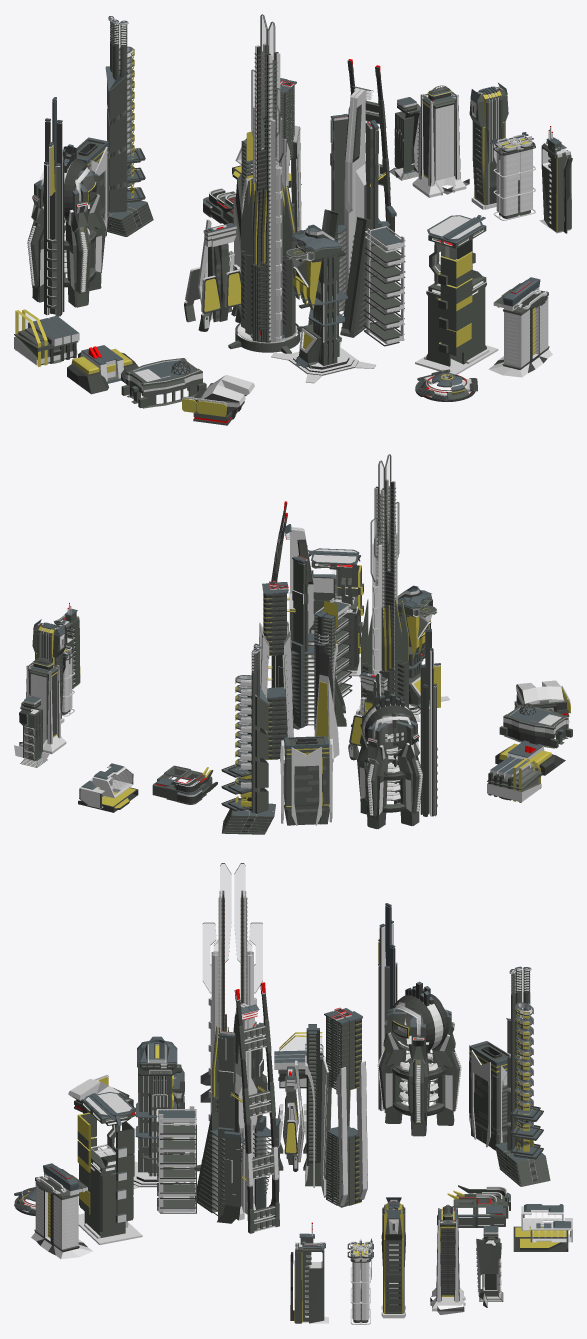
The model's file is island building model2.glb.
3 renders of one model, top to bottom at view 1: azimuth 30°, elevation 25°; view 2: azimuth 150°, elevation 25°; view 3: azimuth 270°, elevation 25°, orthographic. The views are drawn at different scales.
Visible parts, largest first — view 1: Obj3d66-14372305-220-34, Obj3d66-14372305-205-987, Obj3d66-14372305-200-594, Obj3d66-14372305-100-559, Obj3d66-14372305-221-549, Obj3d66-14372305-145-394, Obj3d66-14372305-44-27, Obj3d66-14372305-61-357, Obj3d66-14372305-207-68, Obj3d66-14372305-216-669, Obj3d66-14372305-106-780, Obj3d66-14372305-19-852 (+48 smaller); view 2: Obj3d66-14372305-145-394, Obj3d66-14372305-220-34, Obj3d66-14372305-205-987, Obj3d66-14372305-100-559, Obj3d66-14372305-132-686, Obj3d66-14372305-221-549, Obj3d66-14372305-200-594, Obj3d66-14372305-146-1000, Obj3d66-14372305-75-101, Obj3d66-14372305-216-669, Obj3d66-14372305-61-357, Obj3d66-14372305-127-322 (+41 smaller); view 3: Obj3d66-14372305-205-987, Obj3d66-14372305-145-394, Obj3d66-14372305-200-594, Obj3d66-14372305-75-101, Obj3d66-14372305-100-559, Obj3d66-14372305-71-5, Obj3d66-14372305-207-68, Obj3d66-14372305-219-235, Obj3d66-14372305-106-780, Obj3d66-14372305-146-1000, Obj3d66-14372305-44-27, Obj3d66-14372305-132-686 (+39 smaller).
Part boxes in pixels (x1=…): Obj3d66-14372305-220-34: x1=228, y1=14, x2=302, y2=353; Obj3d66-14372305-205-987: x1=308, y1=60, x2=391, y2=337; Obj3d66-14372305-200-594: x1=426, y1=216, x2=486, y2=366; Obj3d66-14372305-100-559: x1=107, y1=18, x2=153, y2=236; Obj3d66-14372305-221-549: x1=237, y1=43, x2=297, y2=343; Obj3d66-14372305-145-394: x1=28, y1=170, x2=105, y2=307; Obj3d66-14372305-44-27: x1=286, y1=228, x2=341, y2=368; Obj3d66-14372305-61-357: x1=412, y1=92, x2=466, y2=197; Obj3d66-14372305-207-68: x1=330, y1=88, x2=386, y2=309; Obj3d66-14372305-216-669: x1=242, y1=45, x2=288, y2=330; Obj3d66-14372305-106-780: x1=488, y1=287, x2=552, y2=377; Obj3d66-14372305-19-852: x1=493, y1=134, x2=535, y2=220; Obj3d66-14372305-145-394: x1=357, y1=705, x2=422, y2=829; Obj3d66-14372305-220-34: x1=351, y1=454, x2=418, y2=741; Obj3d66-14372305-205-987: x1=272, y1=502, x2=346, y2=729; Obj3d66-14372305-100-559: x1=222, y1=646, x2=275, y2=834; Obj3d66-14372305-132-686: x1=283, y1=736, x2=329, y2=825; Obj3d66-14372305-221-549: x1=372, y1=479, x2=397, y2=692; Obj3d66-14372305-200-594: x1=309, y1=549, x2=363, y2=670; Obj3d66-14372305-146-1000: x1=357, y1=704, x2=422, y2=815; Obj3d66-14372305-75-101: x1=260, y1=593, x2=293, y2=759; Obj3d66-14372305-216-669: x1=362, y1=480, x2=405, y2=714; Obj3d66-14372305-61-357: x1=20, y1=662, x2=66, y2=754; Obj3d66-14372305-127-322: x1=280, y1=739, x2=333, y2=825; Obj3d66-14372305-205-987: x1=195, y1=984, x2=279, y2=1233; Obj3d66-14372305-145-394: x1=379, y1=1002, x2=459, y2=1136; Obj3d66-14372305-200-594: x1=77, y1=1092, x2=134, y2=1237; Obj3d66-14372305-75-101: x1=320, y1=1016, x2=367, y2=1207; Obj3d66-14372305-100-559: x1=495, y1=968, x2=550, y2=1186; Obj3d66-14372305-71-5: x1=320, y1=1008, x2=367, y2=1206; Obj3d66-14372305-207-68: x1=218, y1=983, x2=279, y2=1231; Obj3d66-14372305-219-235: x1=203, y1=864, x2=262, y2=992; Obj3d66-14372305-106-780: x1=31, y1=1173, x2=92, y2=1259; Obj3d66-14372305-146-1000: x1=377, y1=999, x2=461, y2=1122; Obj3d66-14372305-44-27: x1=137, y1=1043, x2=177, y2=1176; Obj3d66-14372305-132-686: x1=469, y1=1042, x2=510, y2=1150.
Size of the model in its own units: 1.22 by 0.6888 by 1.14.
